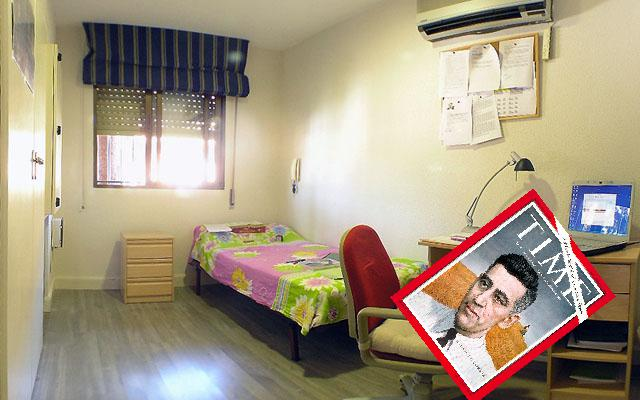times: (389, 188, 616, 398)
